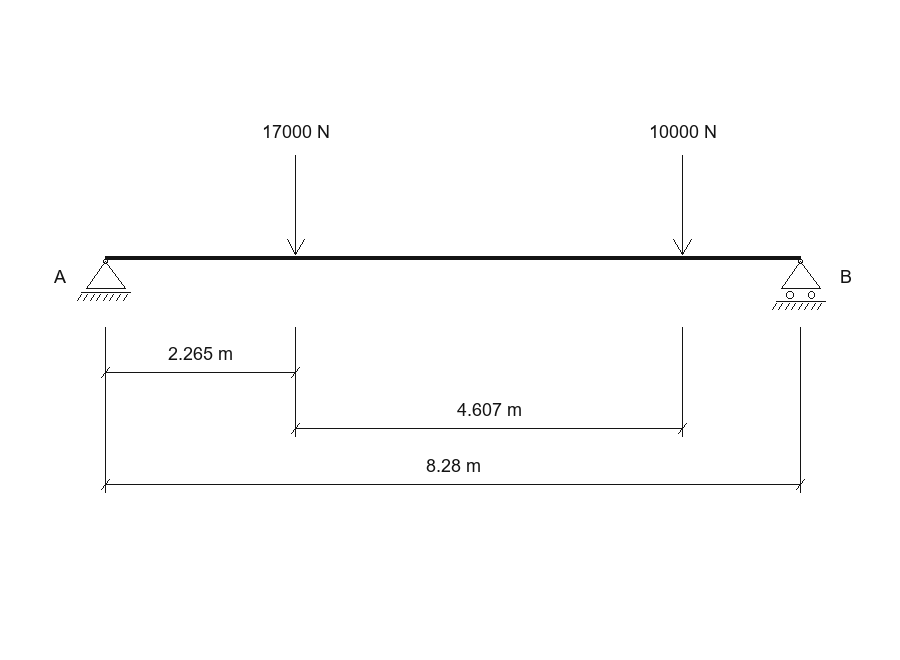pin_support: (77, 259, 131, 301)
point_load: (673, 155, 692, 255), (287, 155, 305, 255)
roller_support: (772, 259, 826, 310)
